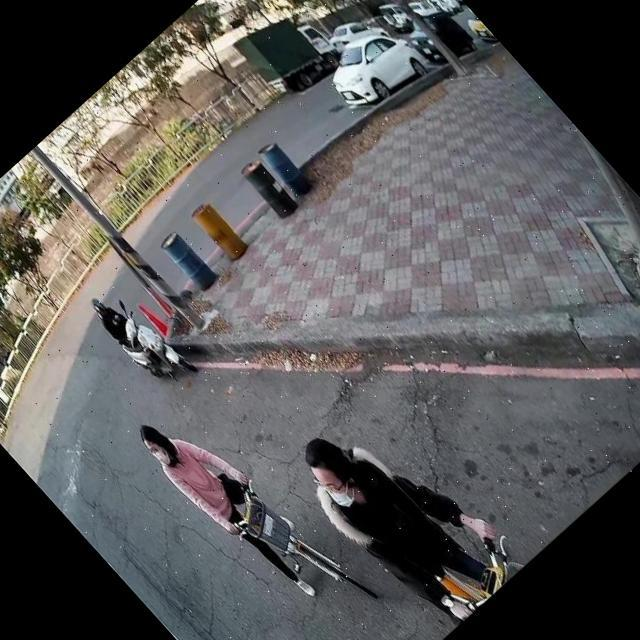person: (274, 380, 528, 640), (125, 385, 346, 620), (80, 284, 152, 359)
